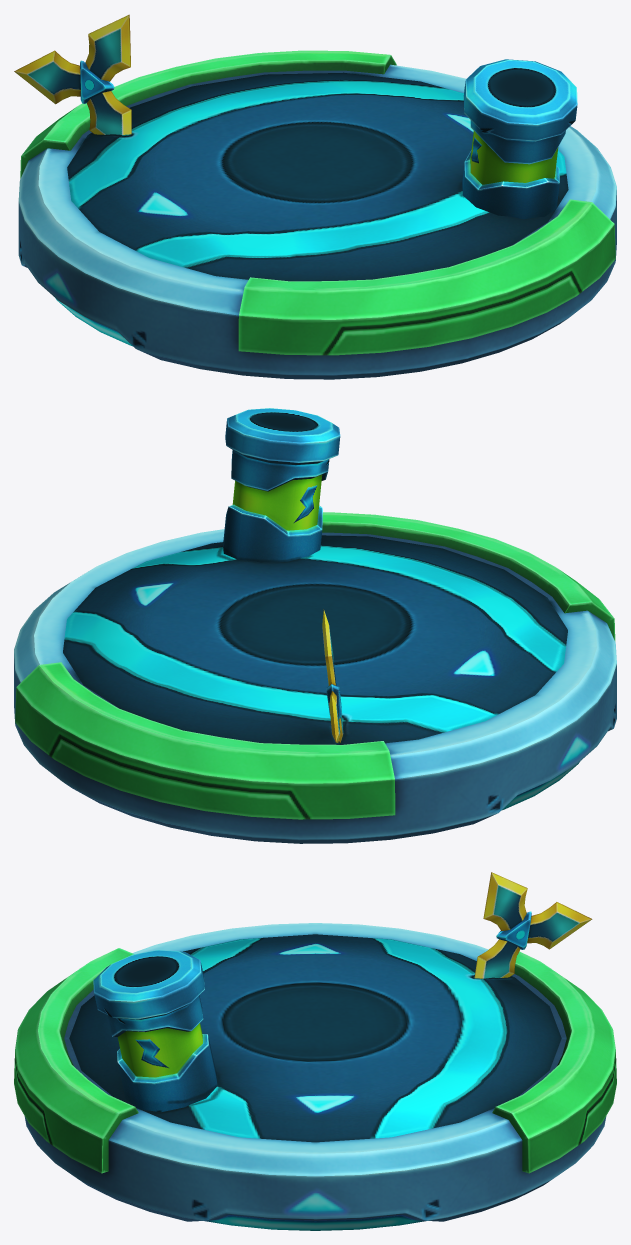
The model's file is stage6.fbx.
The picture shows the model from 3 angles, top to bottom: view 1: azimuth 30°, elevation 25°; view 2: azimuth 150°, elevation 25°; view 3: azimuth 270°, elevation 25°; orthographic projection. The views are drawn at different scales.
Visible parts, largest first — view 1: stage6; view 2: stage6; view 3: stage6.
Boxes of the visible parts, bbox=[...] form: stage6: bbox=[14, 14, 616, 379]; stage6: bbox=[14, 408, 616, 843]; stage6: bbox=[14, 872, 616, 1230].
Size of the model in its own units: 1.34 by 0.5261 by 1.38.
